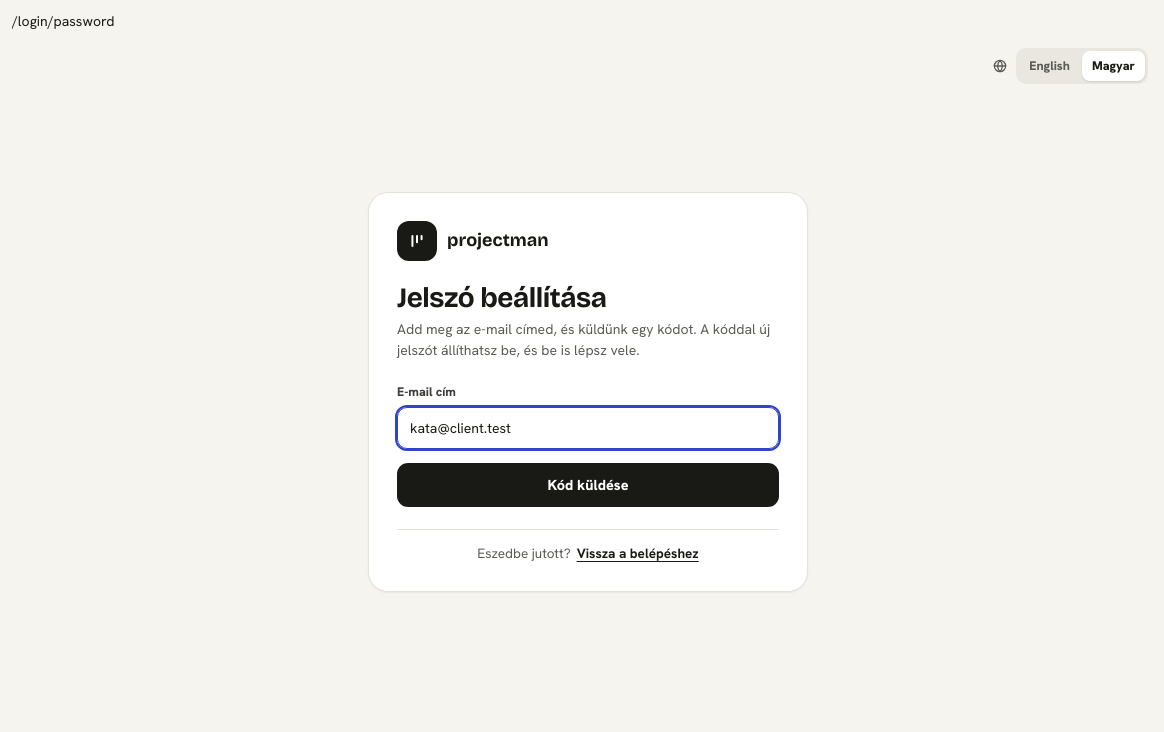
it: PasswordResetPage › shows the wait of a rate limit on the button of the step that was limited
The width and height of the screenshot is (1164, 732).
Click the button "Kód küldése" at (588, 485), box left=397, top=463, right=779, bottom=507
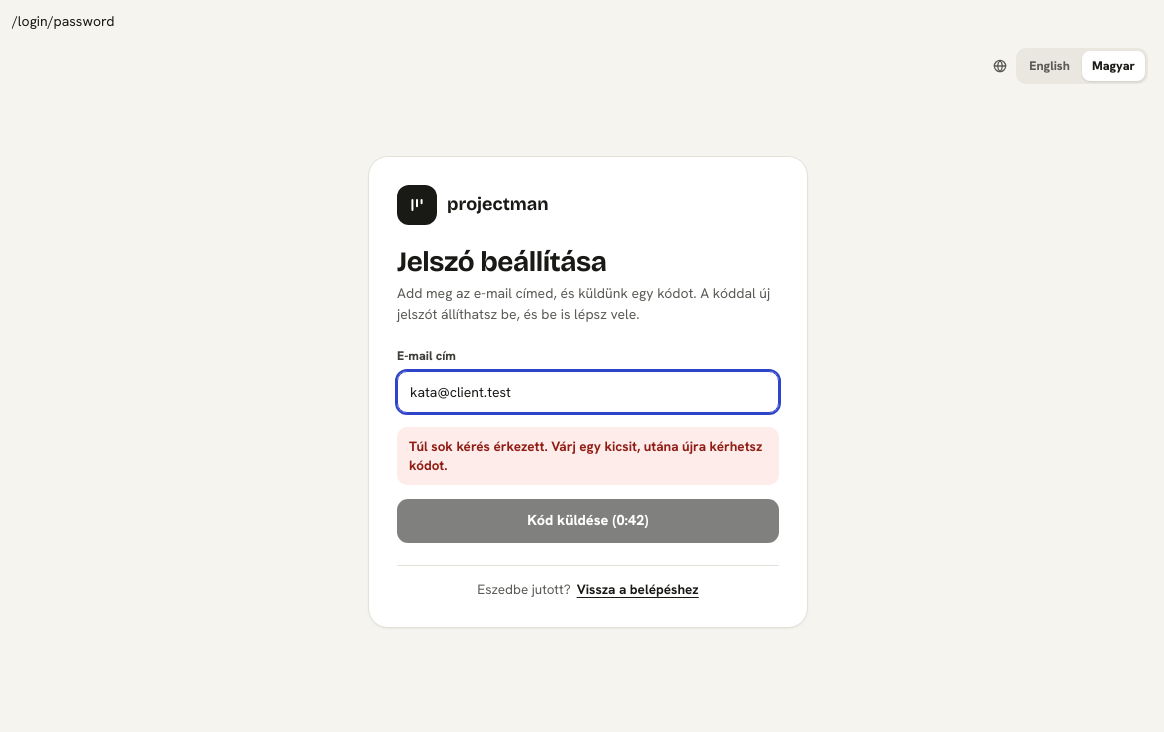
Now the text "Túl sok kérés érkezett. Várj egy kicsit, utána újra kérhetsz kódot." is shown, box left=397, top=427, right=779, bottom=485
